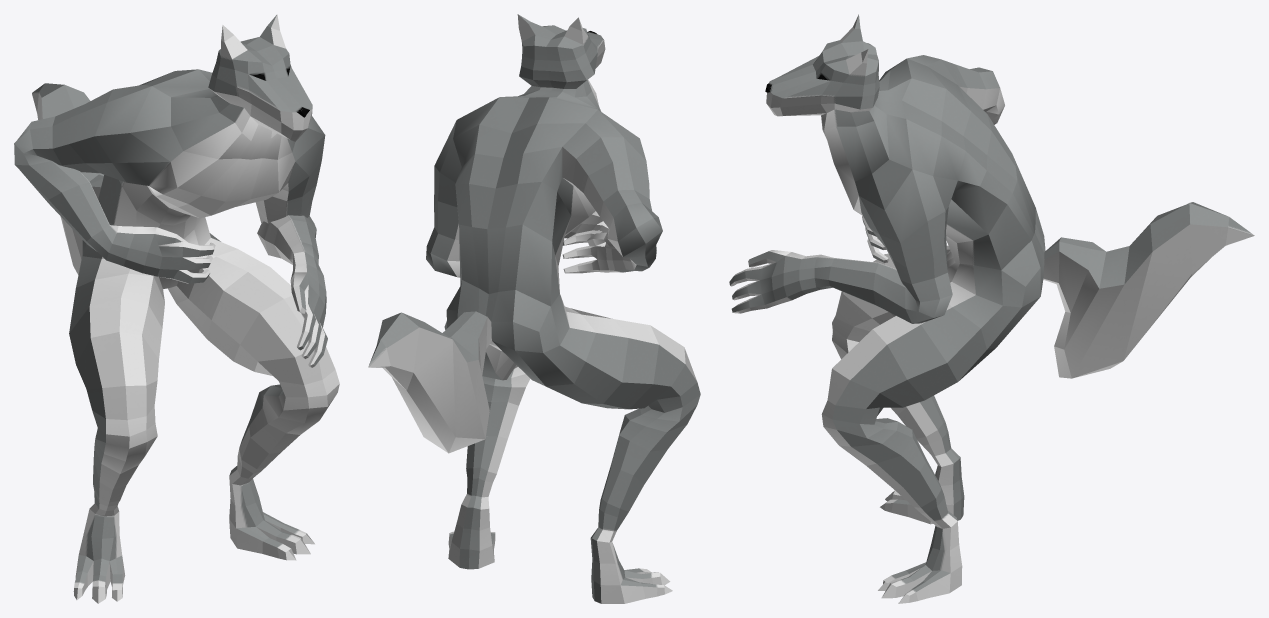
The model's file is WolfIdle_(79).obj.
3 views of the same model, side by side, from view 1: azimuth 30°, elevation 25°; view 2: azimuth 150°, elevation 25°; view 3: azimuth 270°, elevation 25° (orthographic). The views are drawn at different scales.
Visible parts, largest first — view 1: Box001; view 2: Box001; view 3: Box001.
Part boxes in pixels (x1,y1,x2,y2): Box001: (14, 14, 339, 603); Box001: (368, 14, 700, 603); Box001: (729, 14, 1254, 603).
Size of the model in its own units: 66.33 by 132 by 116.
